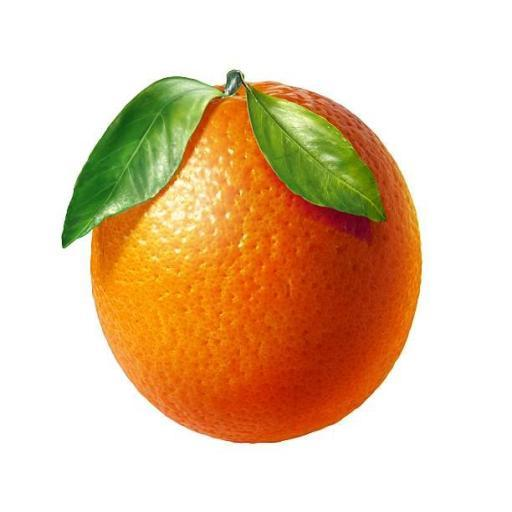orange: (92, 83, 420, 441)
